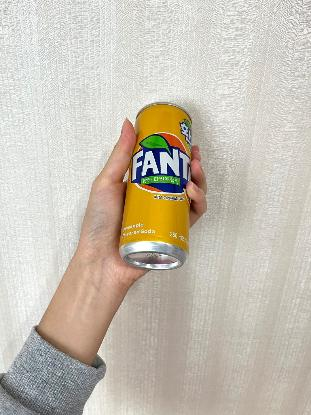Can: (117, 101, 194, 273)
